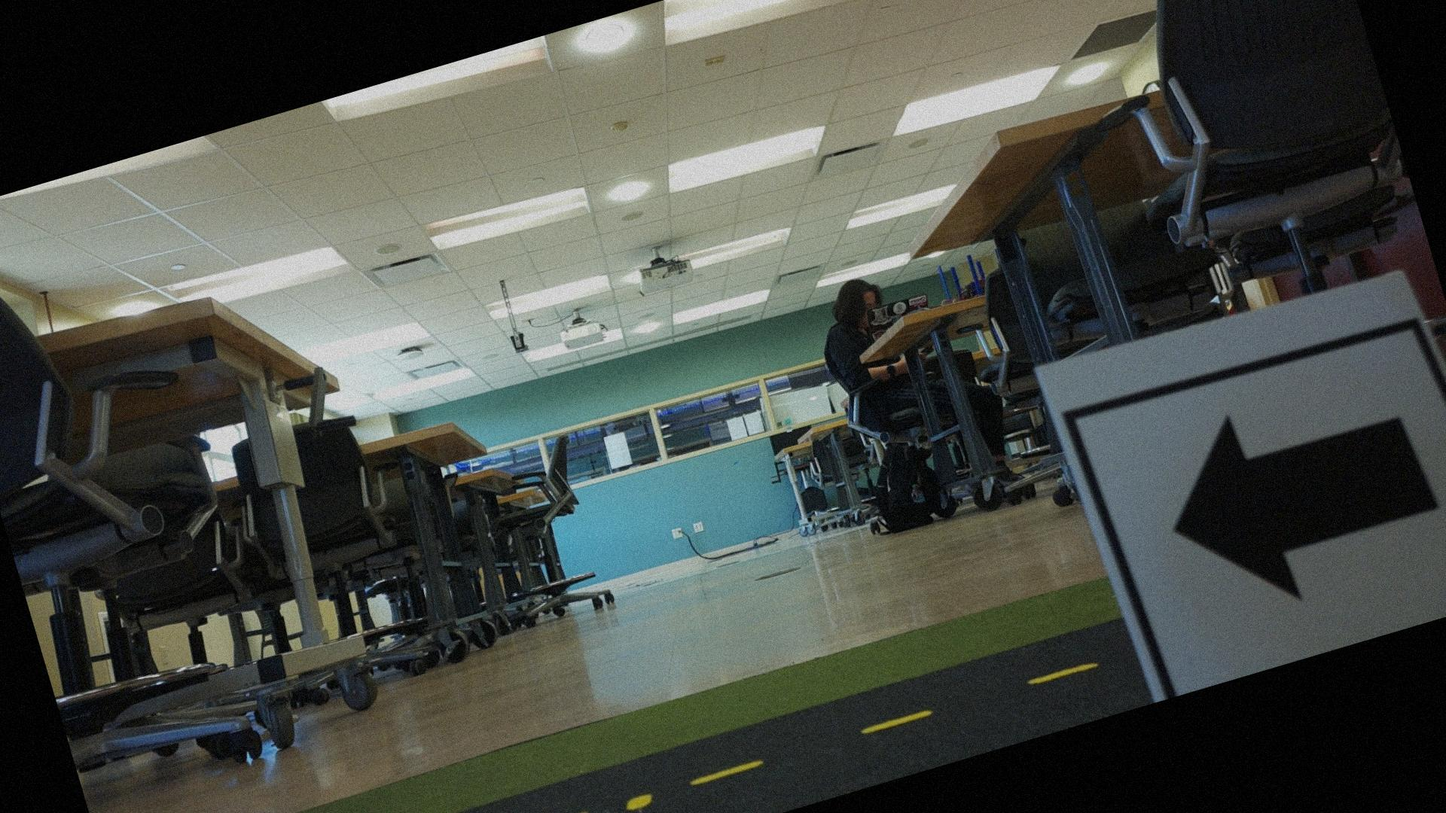turnright: (1075, 316, 1445, 701)
yellowline: (126, 653, 1100, 812), (598, 786, 675, 812)
